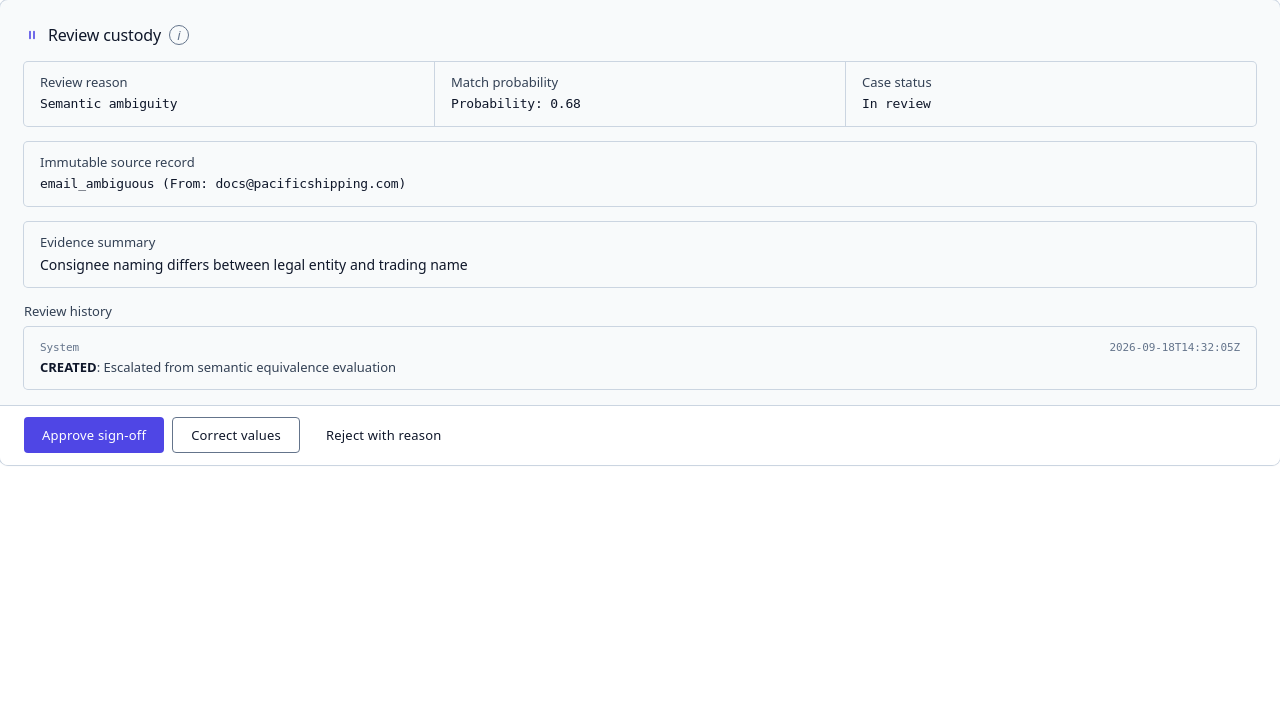
Test: HeldReviewCard › lays out correction actions with a CSS class rather than inline styles
Click the button "Correct values" at (236, 435), box [172,417,300,453]
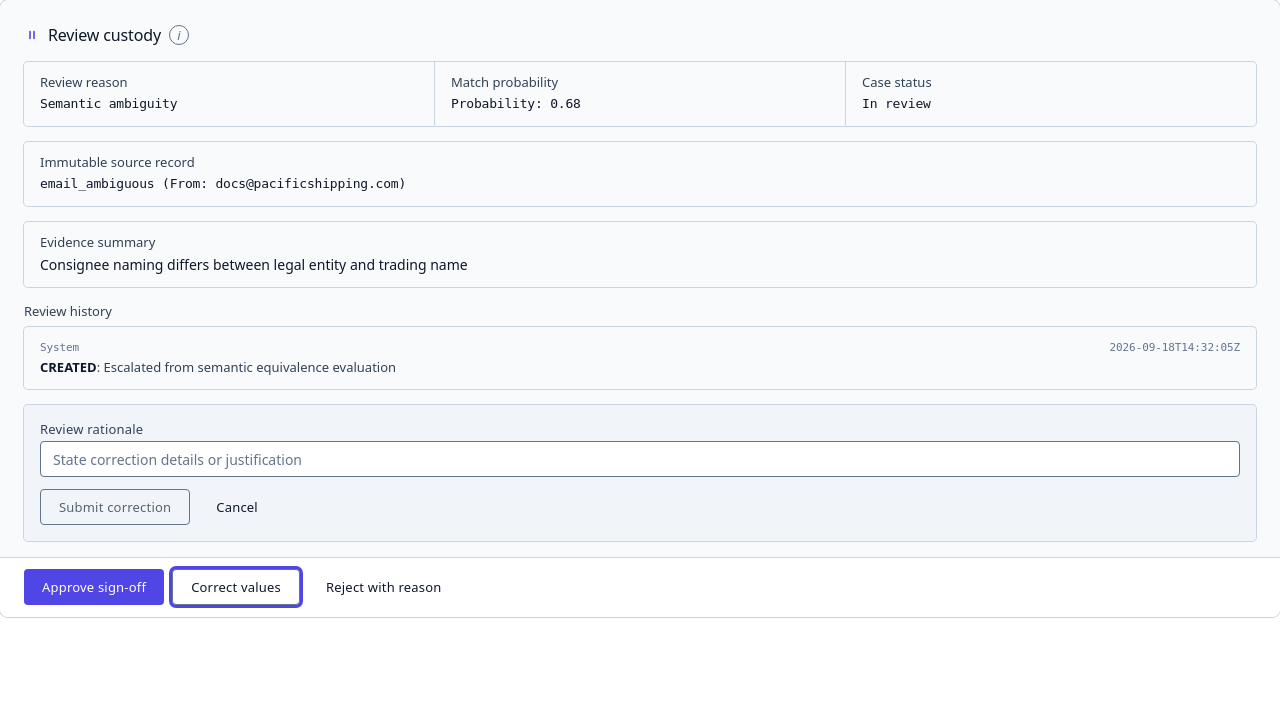
Check: the element with class "held-review-panel-actions" is shown, box [40,489,276,525]
